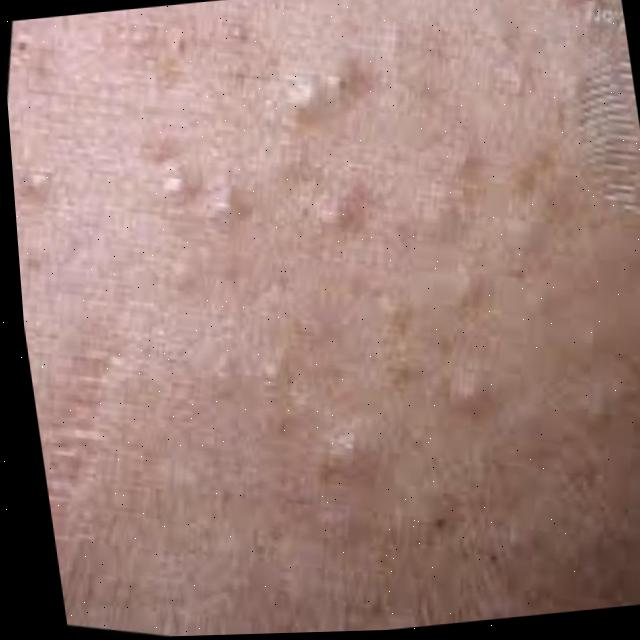Eczema: (83, 24, 640, 598)
